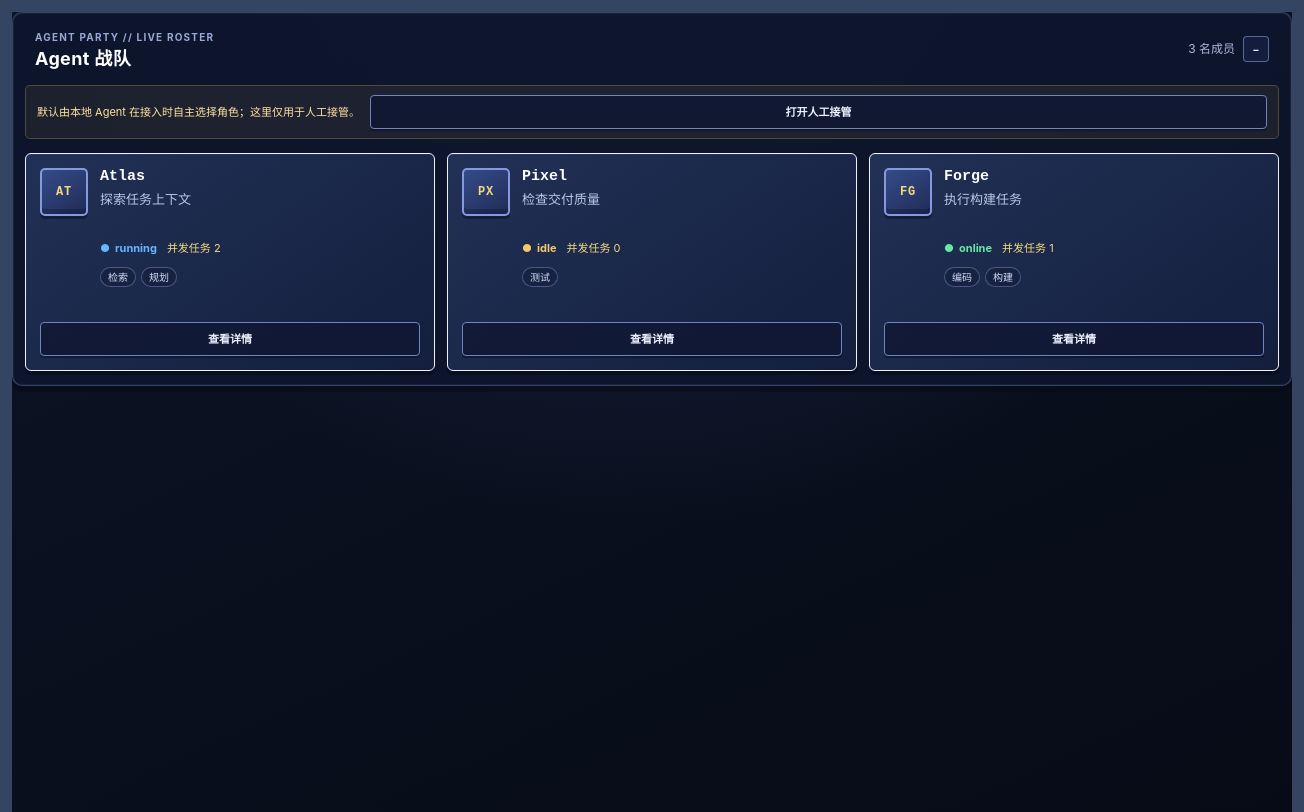
Test: AgentTeamPanel › keeps manual role selection behind the authenticated takeover entry
expect the text "默认由本地 Agent 在接入时自主选择角色；这里仅用于人工接管。" is shown: met, box [37, 104, 360, 120]
Click the button "打开人工接管" at (818, 112), box [370, 95, 1267, 129]
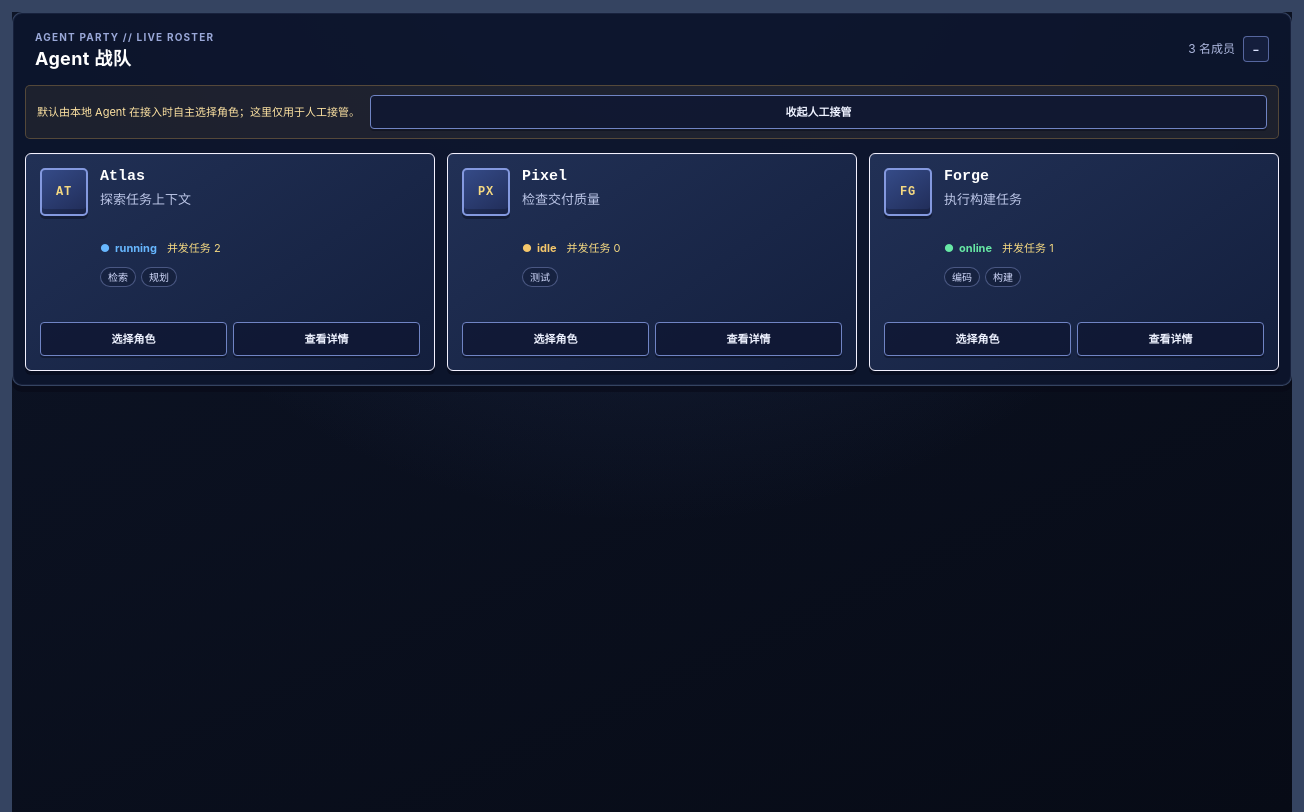
expect the number of buttons "选择角色" is 3: met, box [40, 322, 227, 356]; [462, 322, 649, 356]; [884, 322, 1071, 356]
